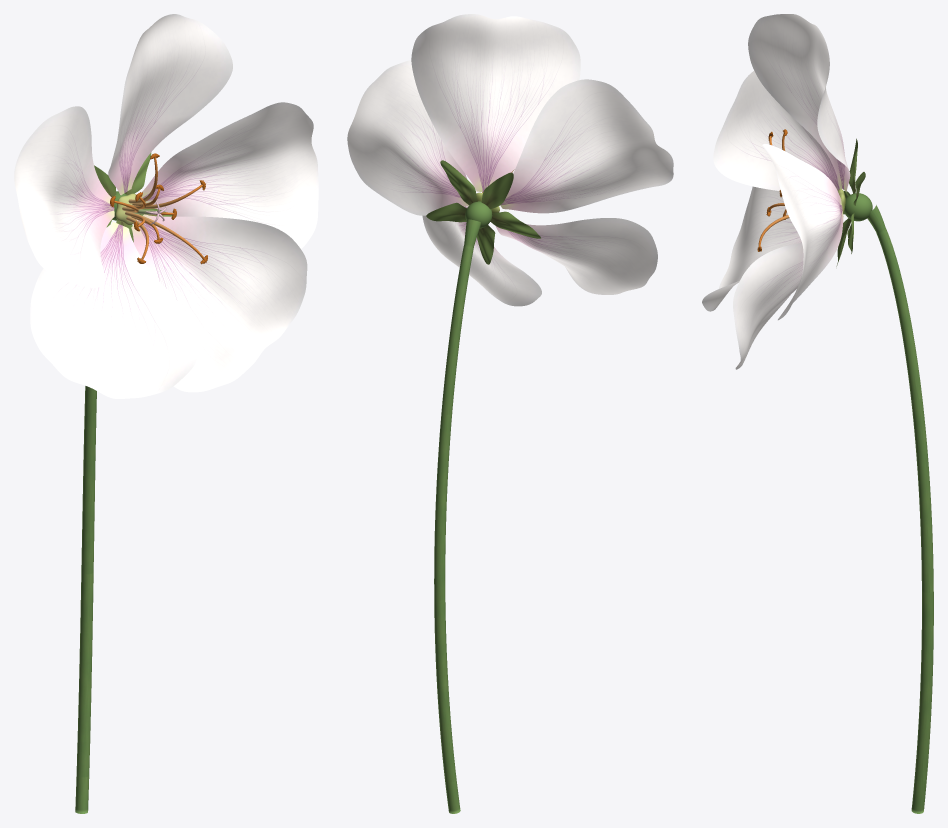
The model's file is flor_interactiva.glb.
3 views of the same model, side by side, from view 1: azimuth 30°, elevation 25°; view 2: azimuth 150°, elevation 25°; view 3: azimuth 270°, elevation 25° (orthographic). The views are drawn at different scales.
Visible parts, largest first — view 1: Petalo_5, Petalo_4, Petalo_1, Petalo_3, Petalo_2, Tallo, Caliz; view 2: Petalo_2, Petalo_3, Petalo_1, Petalo_4, Tallo, Petalo_5, Caliz; view 3: Petalo_2, Tallo, Petalo_3, Petalo_1, Petalo_5, Petalo_4, Caliz.
Part boxes in pixels (left/top/right/bottom): Petalo_5: left=131, top=214, right=307, bottom=392; Petalo_4: left=30, top=222, right=199, bottom=398; Petalo_1: left=141, top=102, right=318, bottom=248; Petalo_3: left=14, top=106, right=114, bottom=287; Petalo_2: left=108, top=14, right=232, bottom=195; Tallo: left=75, top=386, right=96, bottom=813; Caliz: left=94, top=152, right=172, bottom=242; Petalo_2: left=411, top=14, right=580, bottom=191; Petalo_3: left=500, top=79, right=673, bottom=213; Petalo_1: left=347, top=60, right=468, bottom=215; Petalo_4: left=495, top=218, right=657, bottom=294; Tallo: left=434, top=219, right=480, bottom=813; Petalo_5: left=422, top=206, right=541, bottom=306; Caliz: left=426, top=160, right=540, bottom=264; Petalo_2: left=748, top=14, right=850, bottom=191; Tallo: left=867, top=205, right=933, bottom=813; Petalo_3: left=713, top=71, right=842, bottom=190; Petalo_1: left=762, top=144, right=843, bottom=320; Petalo_5: left=733, top=242, right=803, bottom=369; Petalo_4: left=702, top=186, right=801, bottom=311; Caliz: left=836, top=138, right=872, bottom=266.
Size of the model in its own units: 0.1022 by 0.2492 by 0.0655.
Materials: 7 (3 with a texture image).
